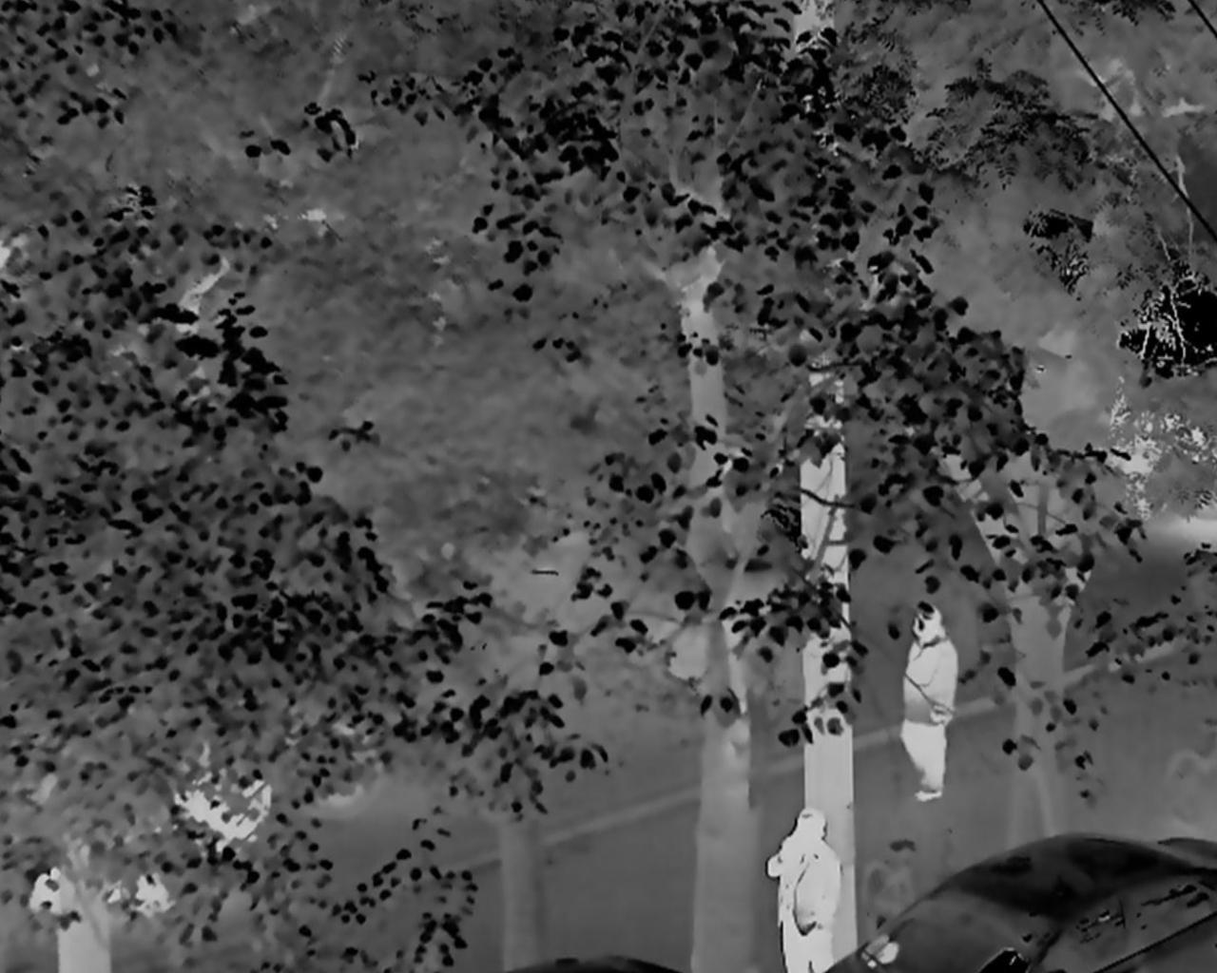person: (895, 605, 958, 805), (762, 814, 840, 973)
